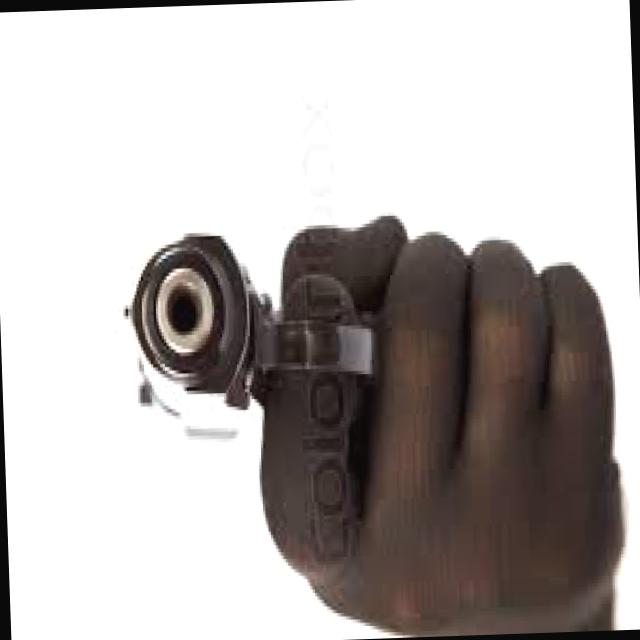handgun: (113, 211, 393, 448)
